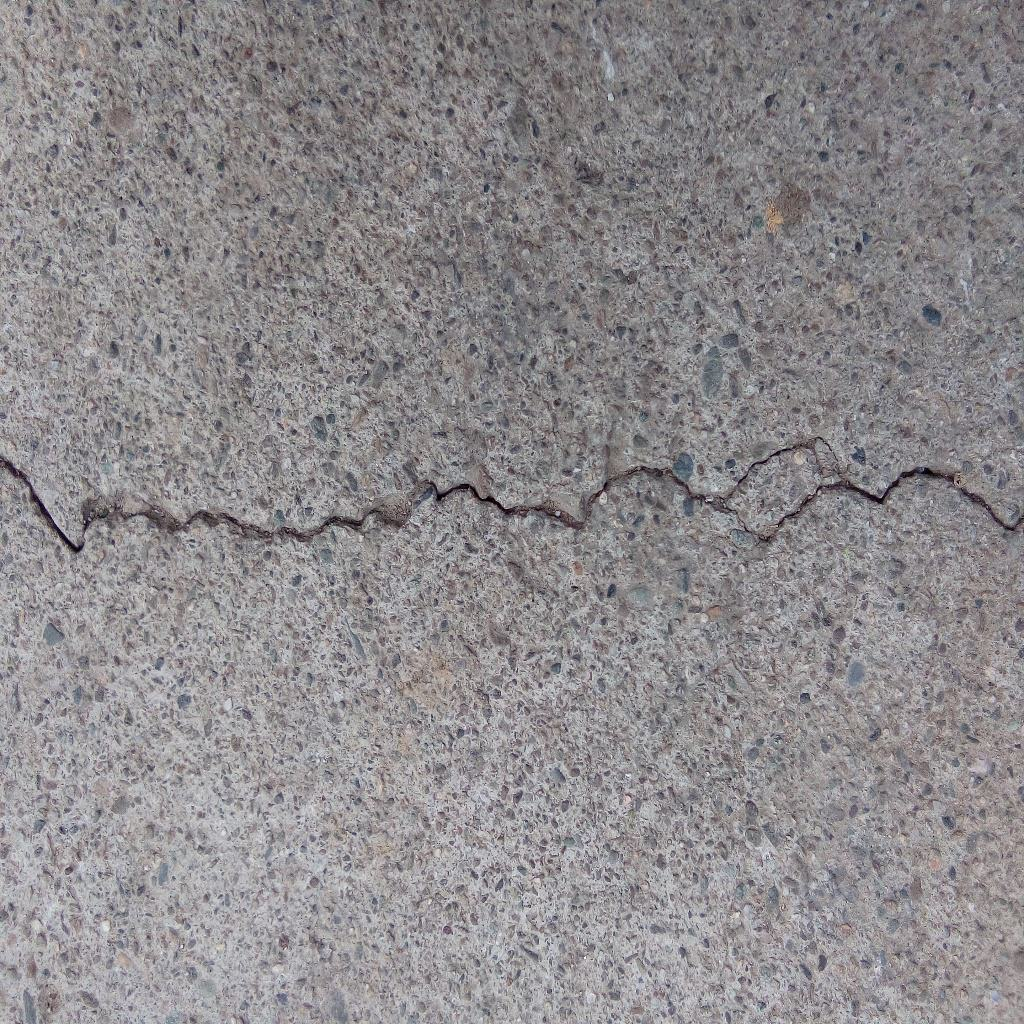Crack: (1, 434, 1024, 555)
